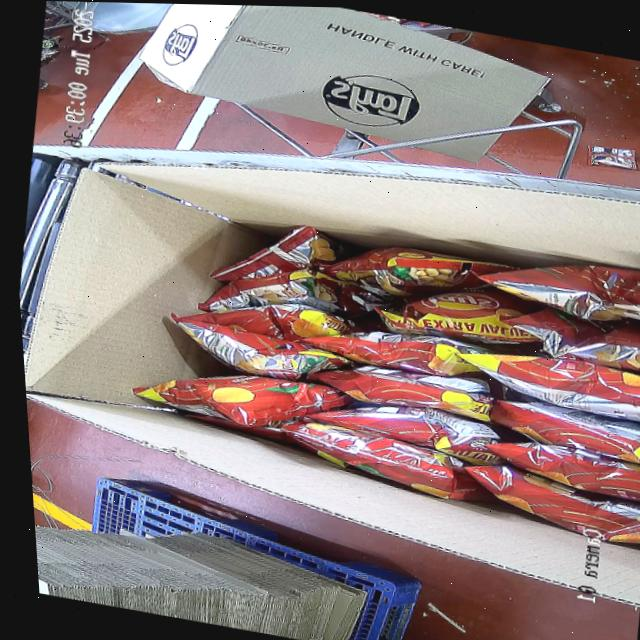MASALA: (109, 181, 640, 548)
